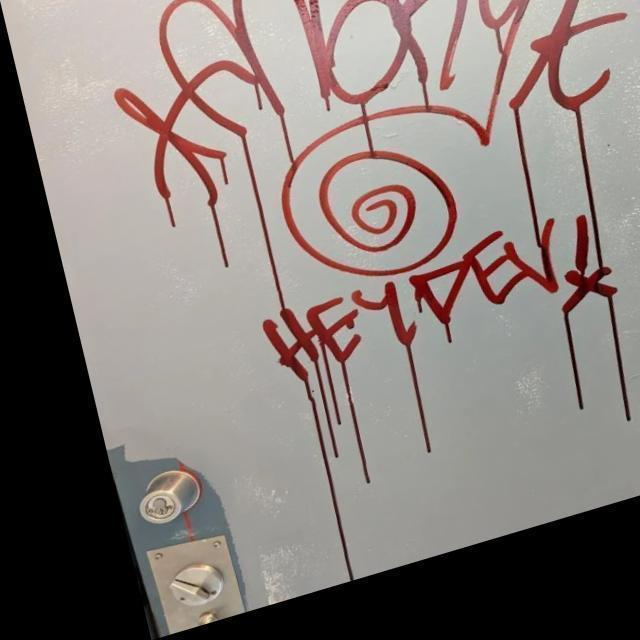nonspitting: (113, 0, 630, 386)
